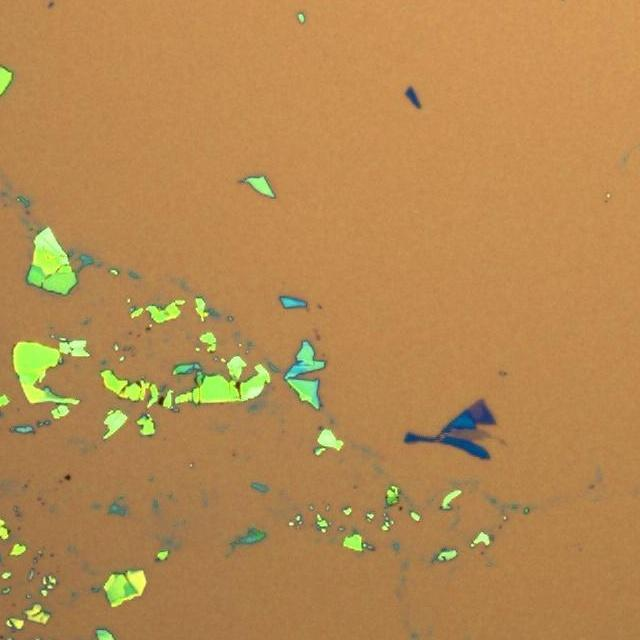monolayer-eWW4: (448, 426, 494, 441)
